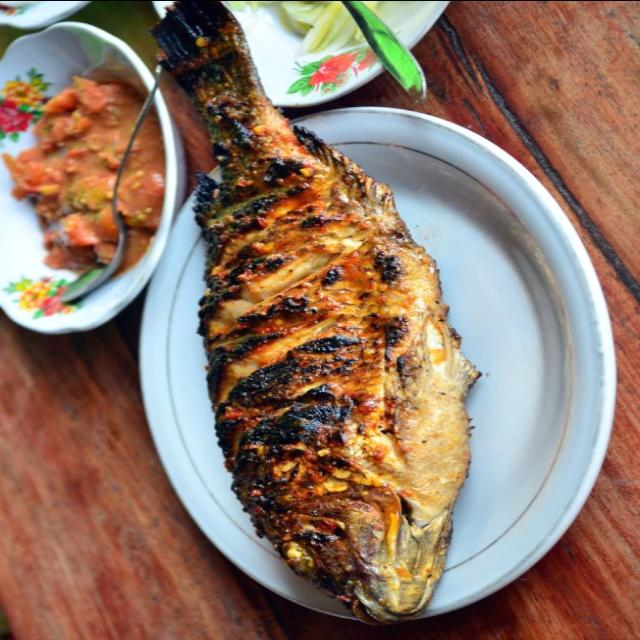ikan bakar: (154, 0, 483, 622)
